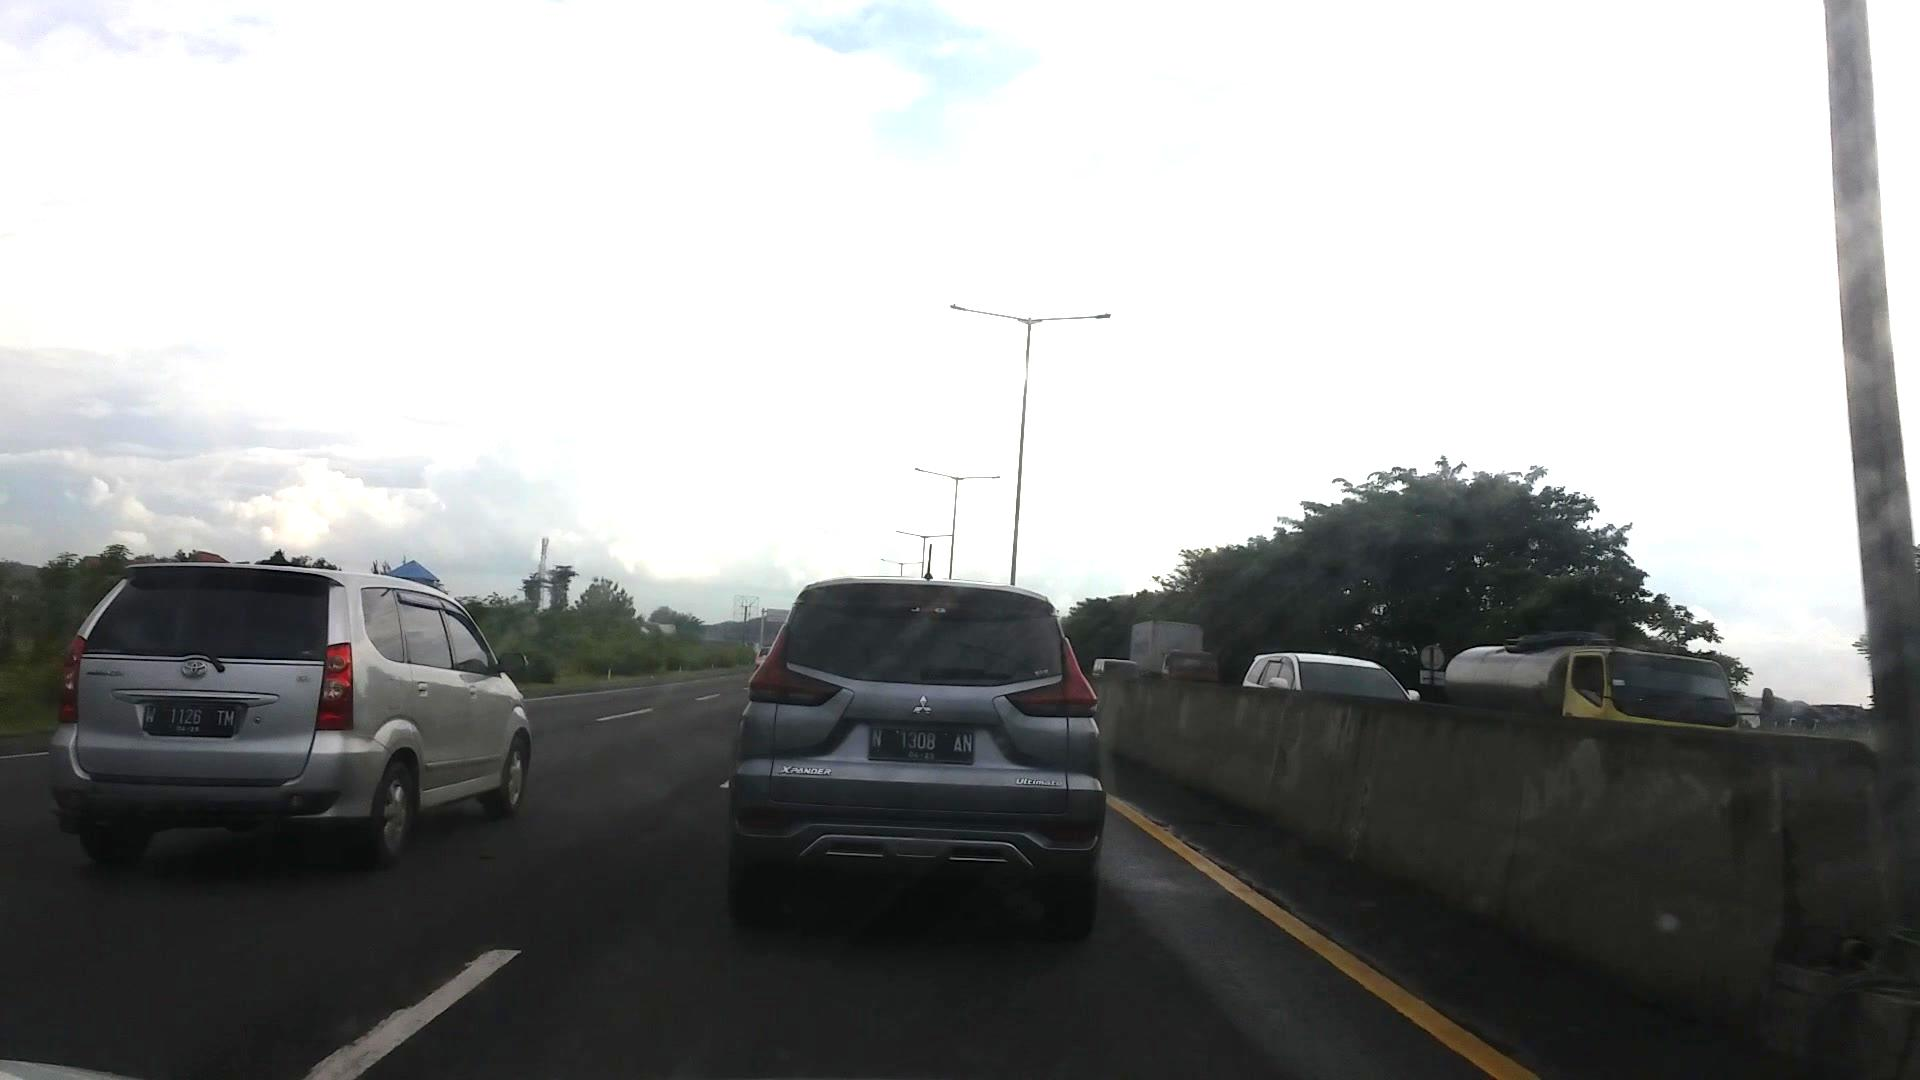plate_positive: (868, 727, 975, 764), (142, 704, 233, 738)
